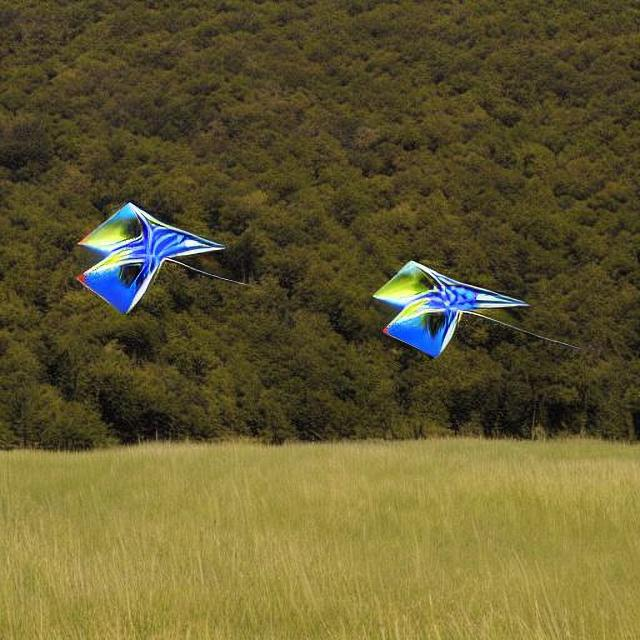floating object: (76, 202, 218, 311), (372, 262, 532, 354)
